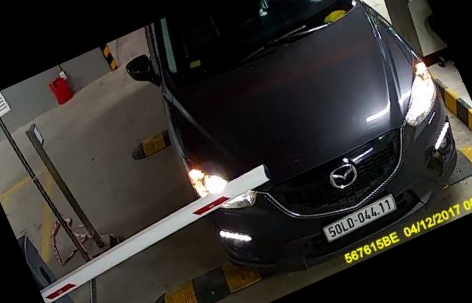plate: (312, 189, 392, 240)
